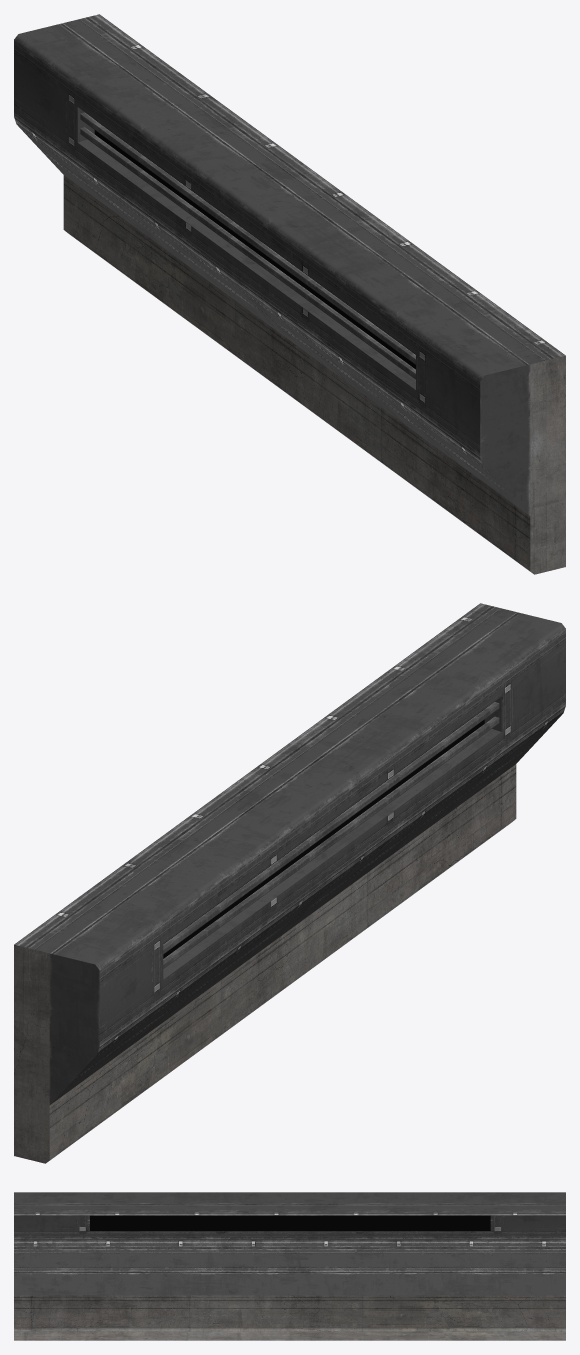
File: CP_Service_Overhang_4m_02.fbx
The picture shows the model from 3 angles, top to bottom: view 1: azimuth 30°, elevation 25°; view 2: azimuth 150°, elevation 25°; view 3: azimuth 270°, elevation 25°; orthographic projection. The views are drawn at different scales.
Parts seen in each view (by area): view 1: CP_Service_Overhang_4m_02; view 2: CP_Service_Overhang_4m_02; view 3: CP_Service_Overhang_4m_02.
Boxes of the visible parts, bbox=[...] form: CP_Service_Overhang_4m_02: bbox=[14, 14, 565, 574]; CP_Service_Overhang_4m_02: bbox=[14, 603, 565, 1163]; CP_Service_Overhang_4m_02: bbox=[14, 1192, 565, 1340].
Bounding box in the file's own units: 42.35 × 100 × 400.
